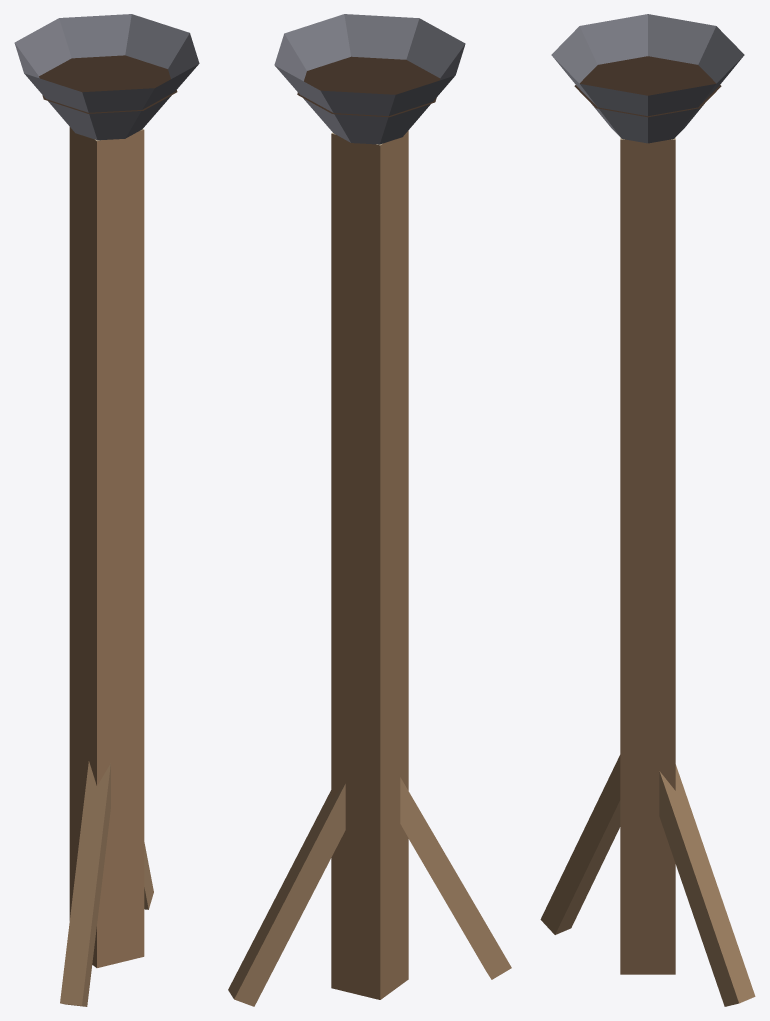
The model's file is torch.glb.
3 views of the same model, side by side, from view 1: azimuth 30°, elevation 25°; view 2: azimuth 150°, elevation 25°; view 3: azimuth 270°, elevation 25° (orthographic). The views are drawn at different scales.
Parts seen in each view (by area): view 1: torch; view 2: torch; view 3: torch.
Boxes of the visible parts, x1=… form: torch: x1=14, y1=14, x2=199, y2=1006; torch: x1=228, y1=14, x2=511, y2=1006; torch: x1=540, y1=14, x2=755, y2=1006.
Bounding box in the file's own units: 0.9336 × 4.37 × 0.9336.
